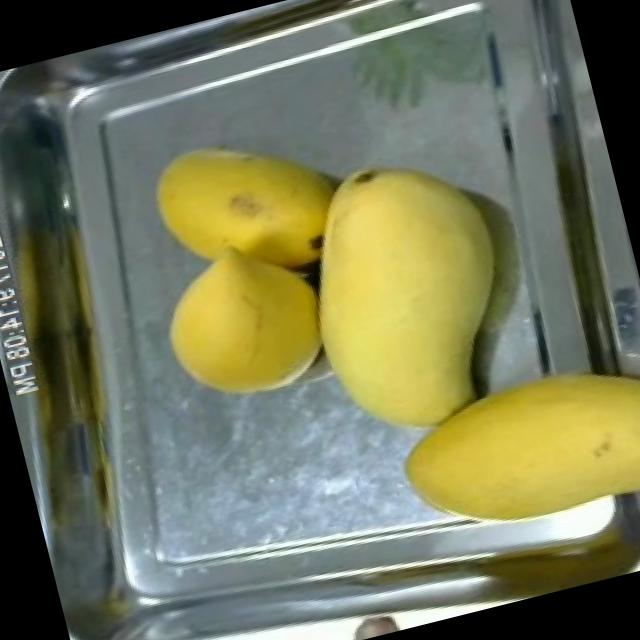fruit: (270, 128, 550, 464), (376, 332, 640, 567), (130, 104, 360, 316), (138, 222, 350, 429)
